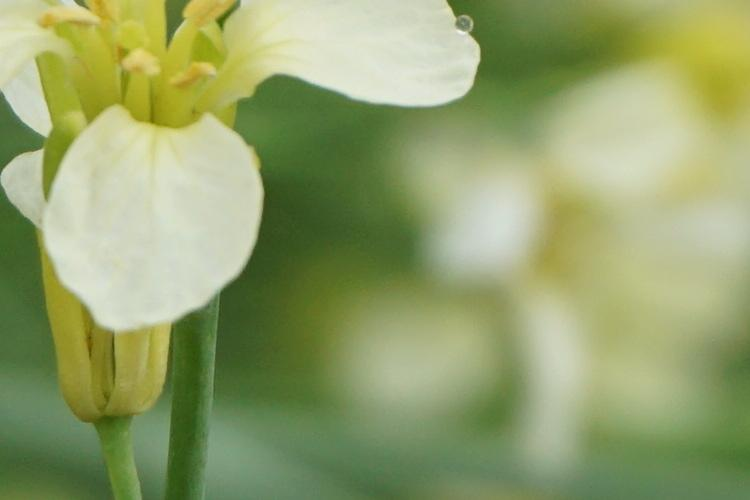white: (2, 1, 494, 337)
